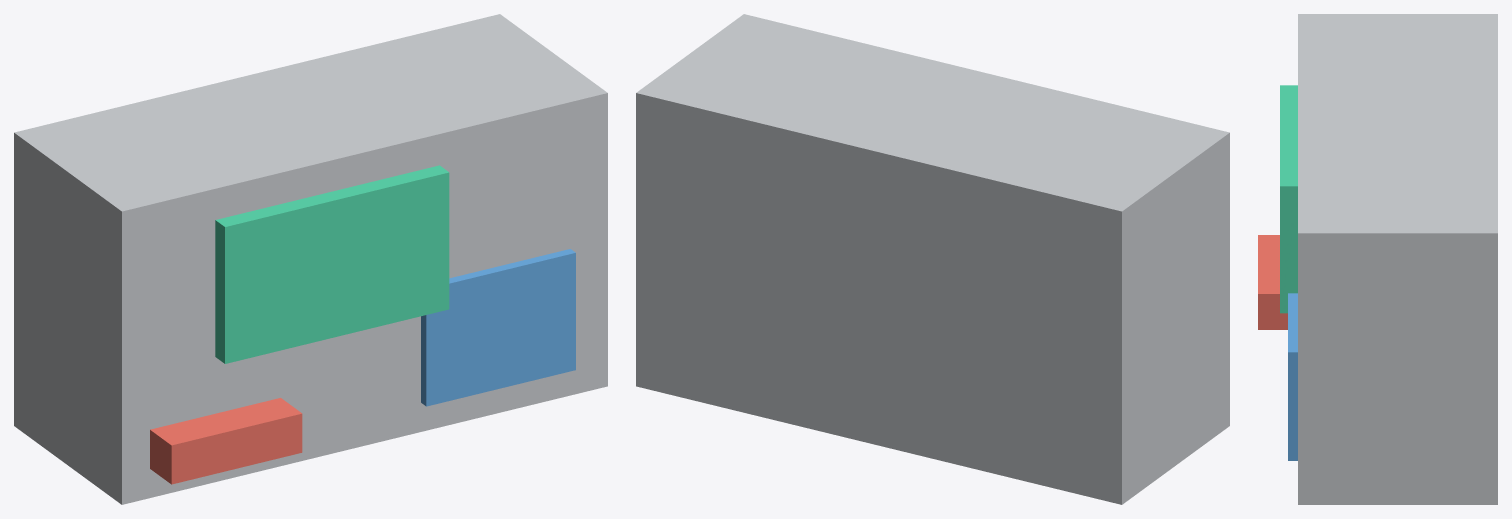
Rendered from ecg_biopotential_instrumentation.glb.
3 views of the same model, side by side, from view 1: azimuth 30°, elevation 25°; view 2: azimuth 150°, elevation 25°; view 3: azimuth 270°, elevation 25° (orthographic). The views are drawn at different scales.
Parts seen in each view (by area): view 1: ECGPatientMonitorEnclosure, ThermalStripChartRecorder, InstrumentationAmplifierModule, EinthovenLeadElectrodeCables; view 2: ECGPatientMonitorEnclosure; view 3: ECGPatientMonitorEnclosure, ThermalStripChartRecorder, EinthovenLeadElectrodeCables, InstrumentationAmplifierModule.
Boxes of the visible parts, left/top/right/bottom form: ECGPatientMonitorEnclosure: left=14, top=14, right=607, bottom=504; ThermalStripChartRecorder: left=215, top=165, right=449, bottom=363; InstrumentationAmplifierModule: left=421, top=249, right=575, bottom=406; EinthovenLeadElectrodeCables: left=150, top=398, right=302, bottom=484; ECGPatientMonitorEnclosure: left=636, top=14, right=1229, bottom=504; ECGPatientMonitorEnclosure: left=1298, top=14, right=1497, bottom=504; ThermalStripChartRecorder: left=1280, top=85, right=1297, bottom=313; EinthovenLeadElectrodeCables: left=1258, top=235, right=1287, bottom=329; InstrumentationAmplifierModule: left=1288, top=293, right=1297, bottom=460.
Size of the model in its own units: 1.3 by 0.75 by 0.6.
